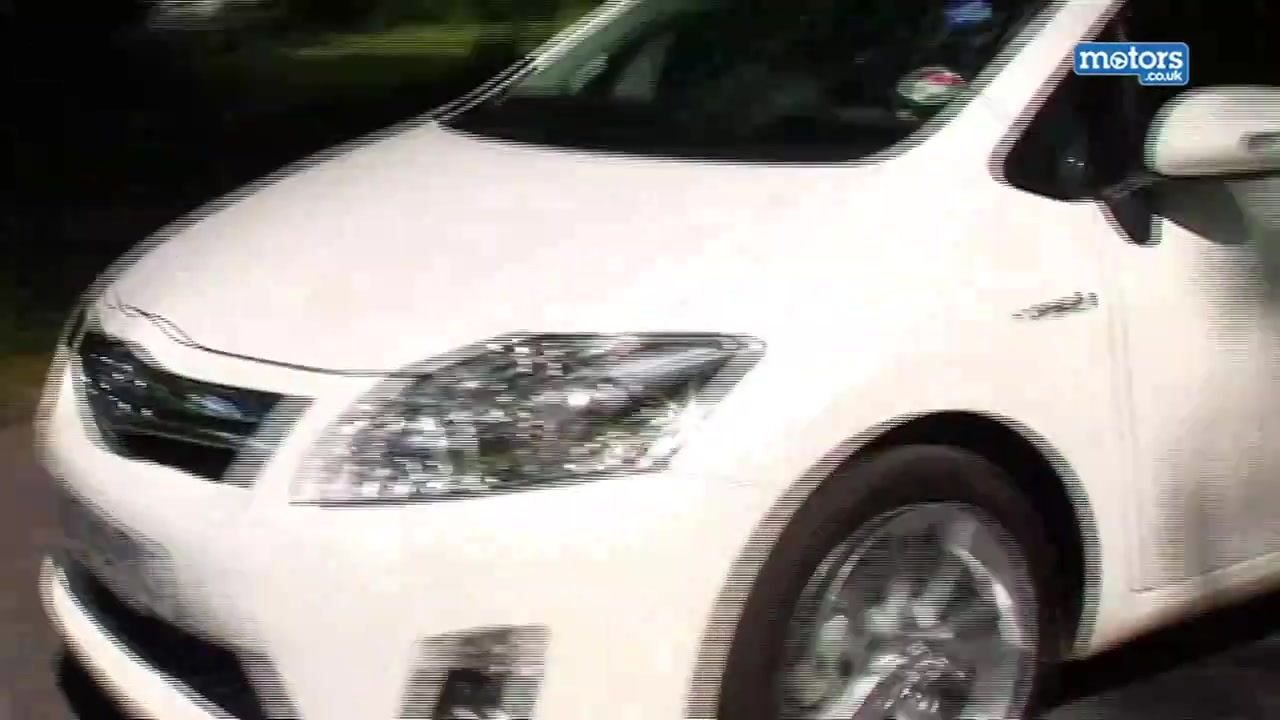car: (28, 2, 1280, 720)
